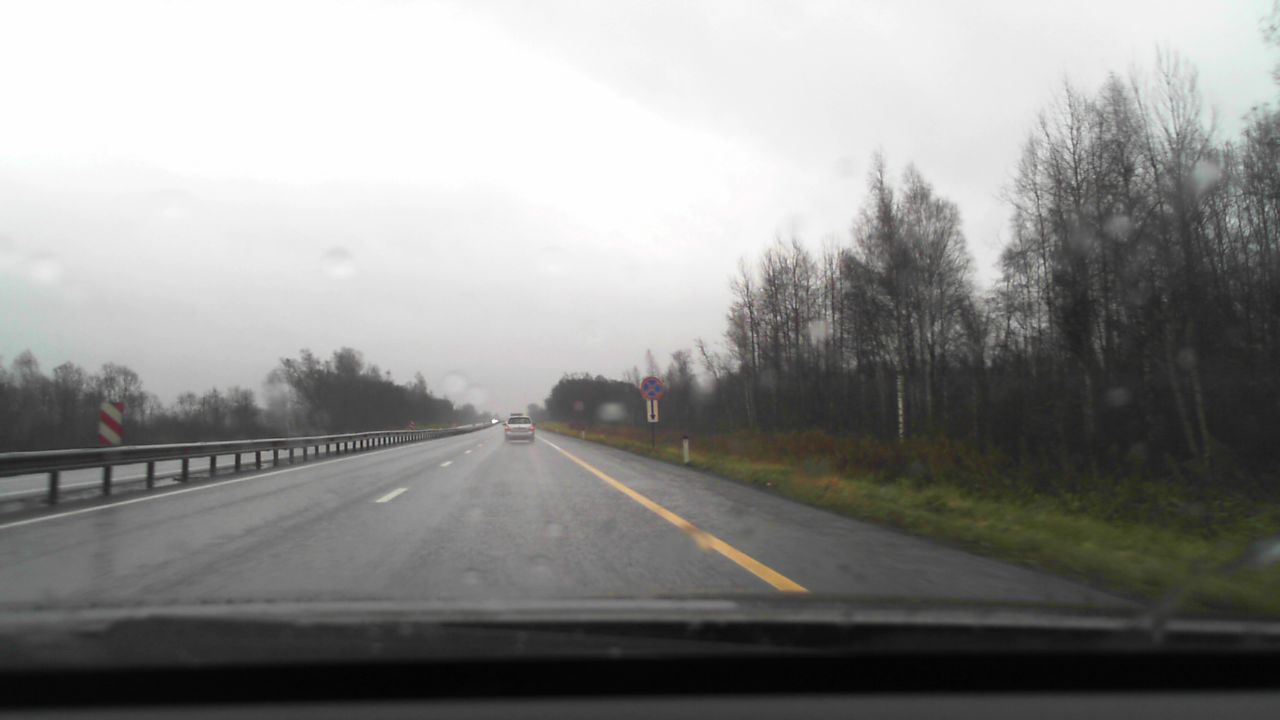No Parking: (640, 376, 664, 400)
